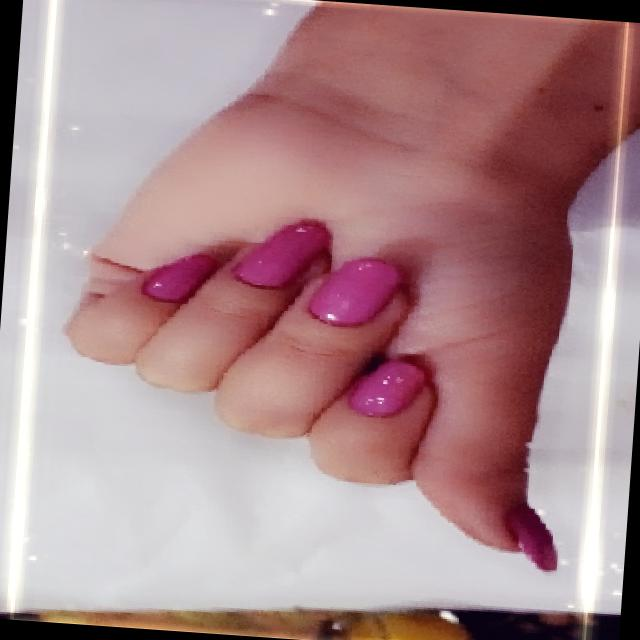Nail: (232, 222, 328, 287), (307, 258, 400, 325), (346, 358, 426, 416), (142, 254, 214, 300), (507, 504, 556, 570)
